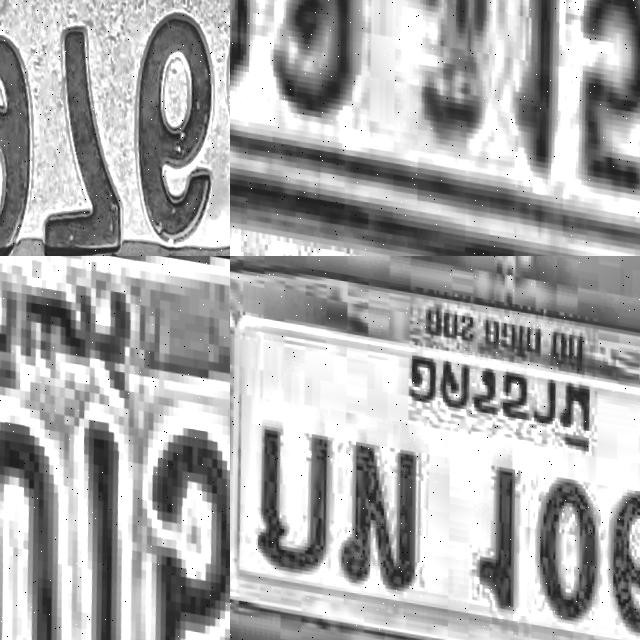license-plate: (230, 256, 640, 640), (230, 0, 640, 256), (0, 256, 230, 640), (0, 0, 230, 256)
